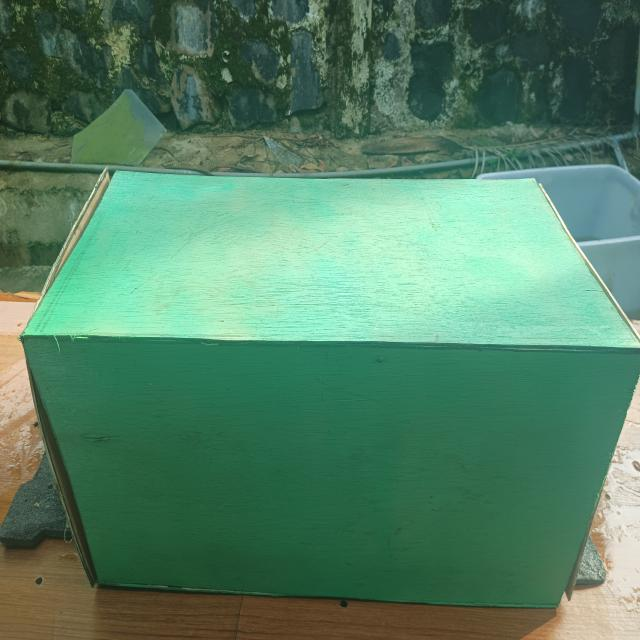green_box: (9, 113, 640, 627)
